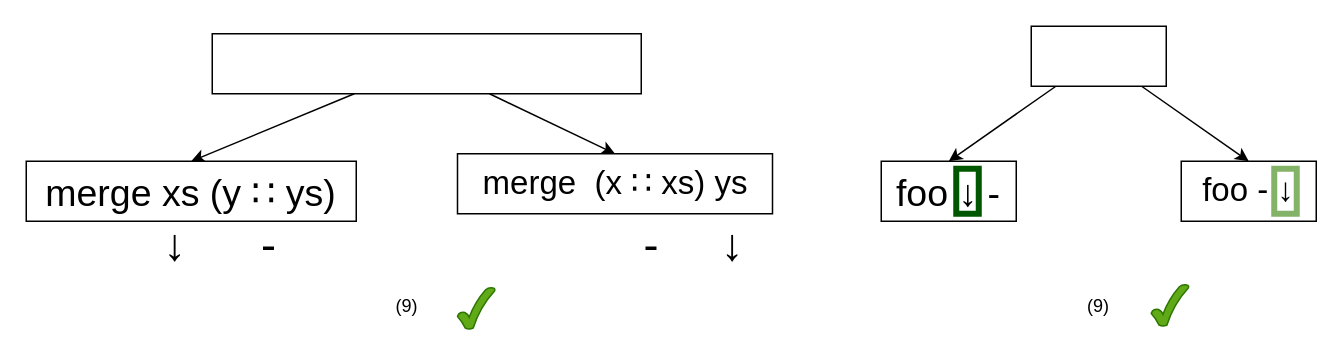
Some shapes in this 1343 by 356 pixel diagram are drawn without their labels. Each missing label, with the box of its shape:
foo _ _: (1030, 25, 1166, 86)
merge (x ∷ xs) (y ∷ ys): (211, 32, 641, 94)
